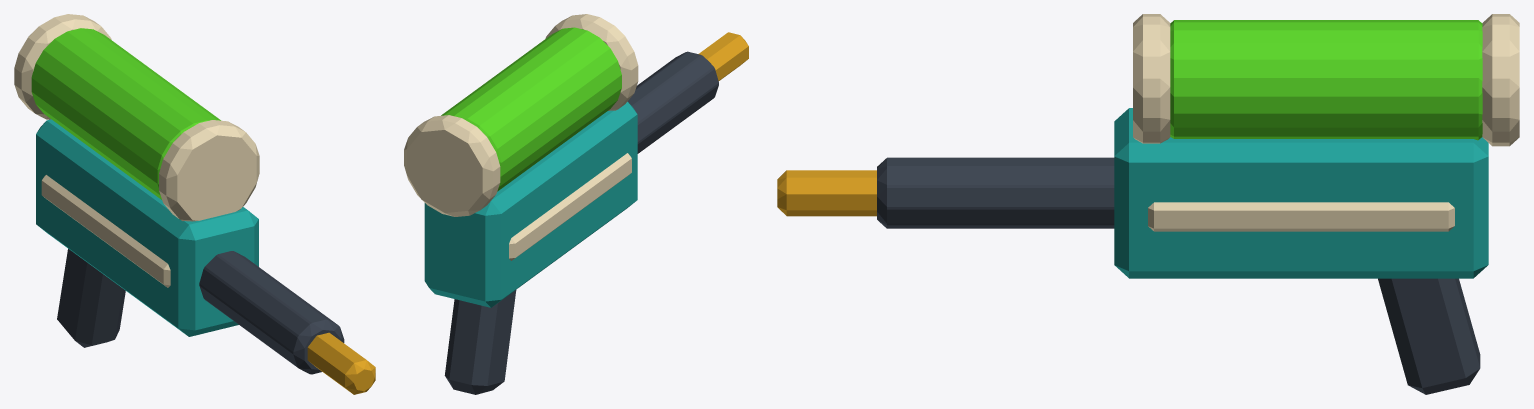
The model's file is weapon_medic-Bwpmr65C.glb.
3 renders of one model, left to right at view 1: azimuth 30°, elevation 25°; view 2: azimuth 150°, elevation 25°; view 3: azimuth 270°, elevation 25°, orthographic. The views are drawn at different scales.
Visible parts, largest first — view 1: weapon_medic; view 2: weapon_medic; view 3: weapon_medic.
Boxes of the visible parts, x1,y1,x2,y2 form: weapon_medic: (14, 14, 375, 394); weapon_medic: (404, 14, 748, 394); weapon_medic: (777, 14, 1519, 394).
Size of the model in its own units: 0.1046 by 0.3248 by 0.595.
